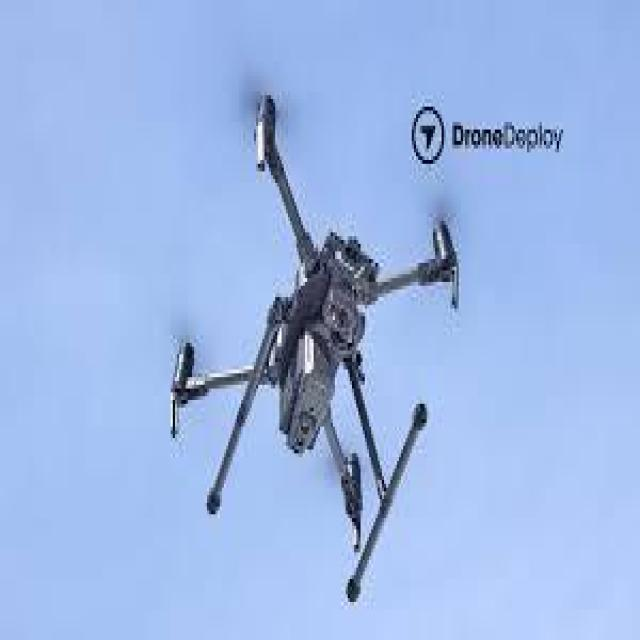drones: (157, 82, 467, 620)
